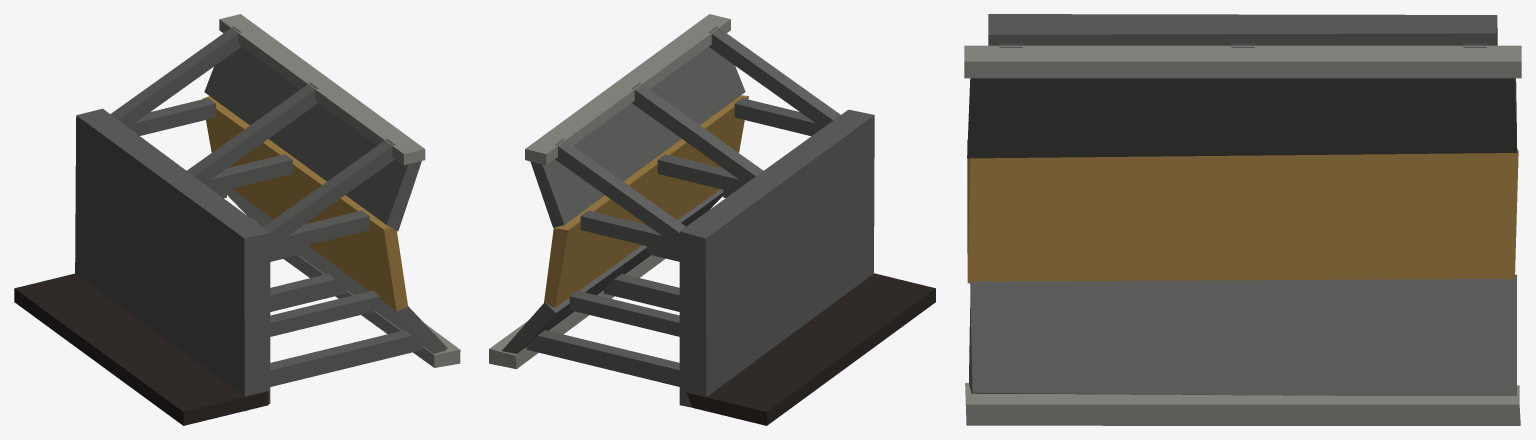
Rendered from arm_plow_ram.glb.
The picture shows the model from 3 angles, left to right: view 1: azimuth 30°, elevation 25°; view 2: azimuth 150°, elevation 25°; view 3: azimuth 270°, elevation 25°; orthographic projection. The views are drawn at different scales.
Parts seen in each view (by area): view 1: arm_plow_ram; view 2: arm_plow_ram; view 3: arm_plow_ram.
Part boxes in pixels (<box>): arm_plow_ram: <box>14,14,460,425</box>; arm_plow_ram: <box>489,14,935,425</box>; arm_plow_ram: <box>964,14,1521,425</box>.
Size of the model in its own units: 1.02 by 0.8147 by 1.2.
